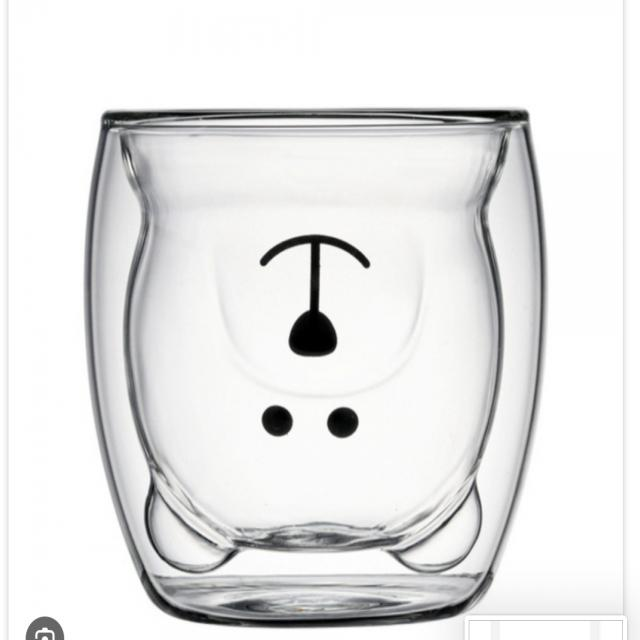recyclable: (68, 63, 574, 621)
